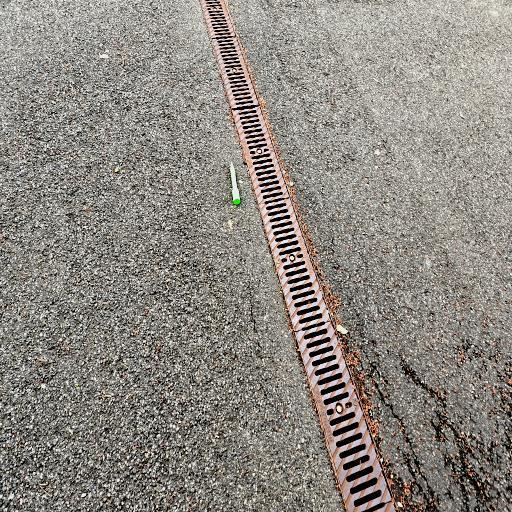Probe-Detection: (230, 162, 240, 205)
